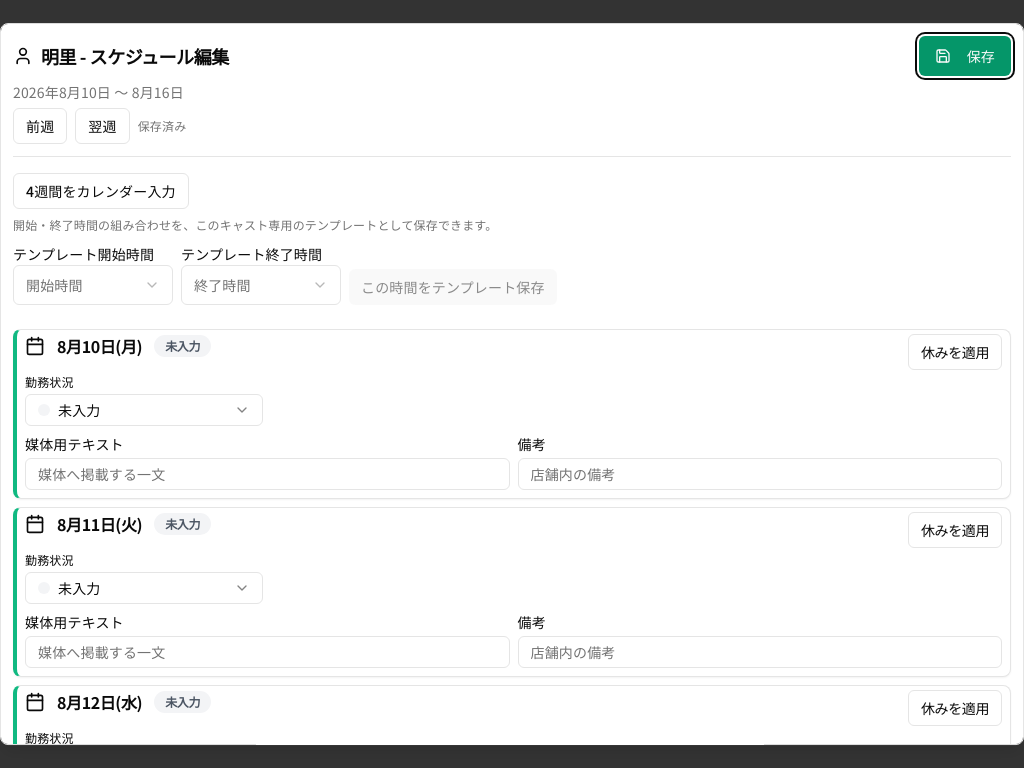
it: ScheduleEditDialog day templates › renders four weeks as a calendar and resets that choice for another cast
Later steps or results of the test are not shown.
Step 1. Click the button "4週間をカレンダー入力" → (101,191), box [13,173,189,209]
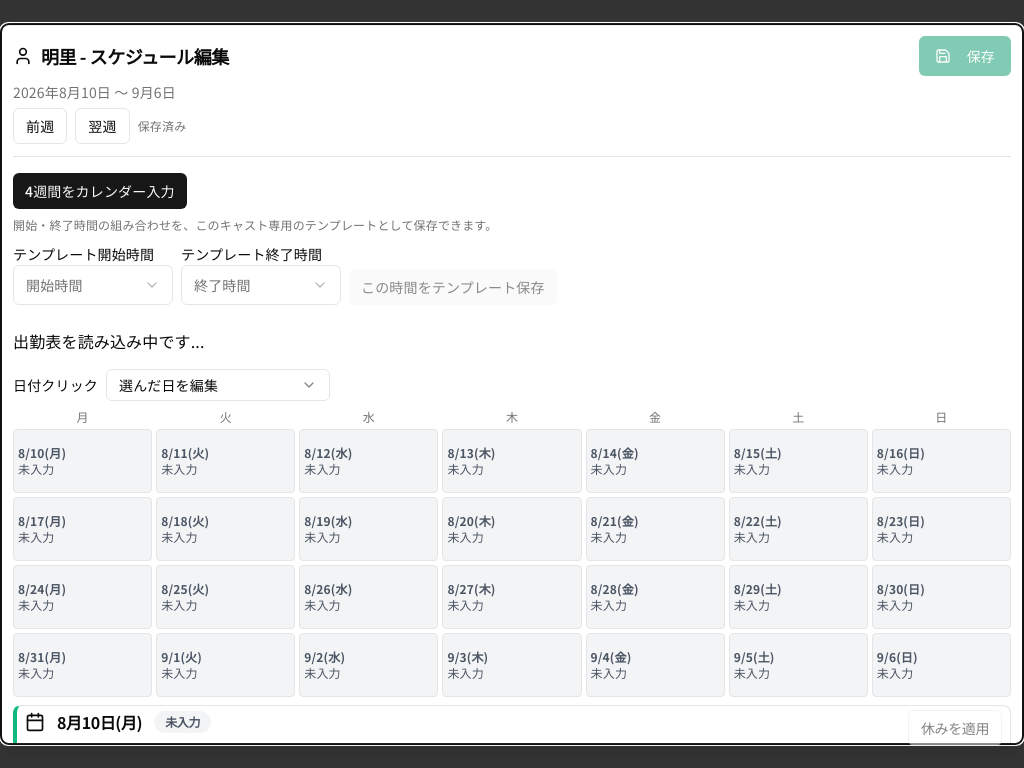
Result: the table named "4週間出勤カレンダー" is shown at [13,409,1011,697]
